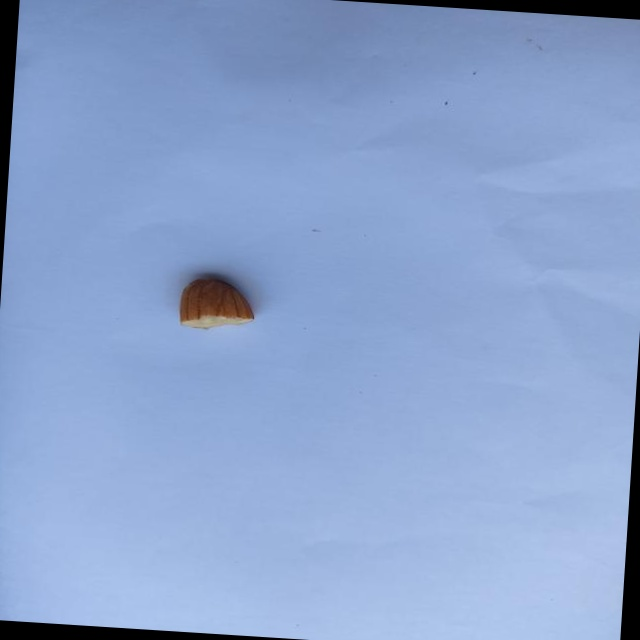grade4: (171, 269, 266, 337)
